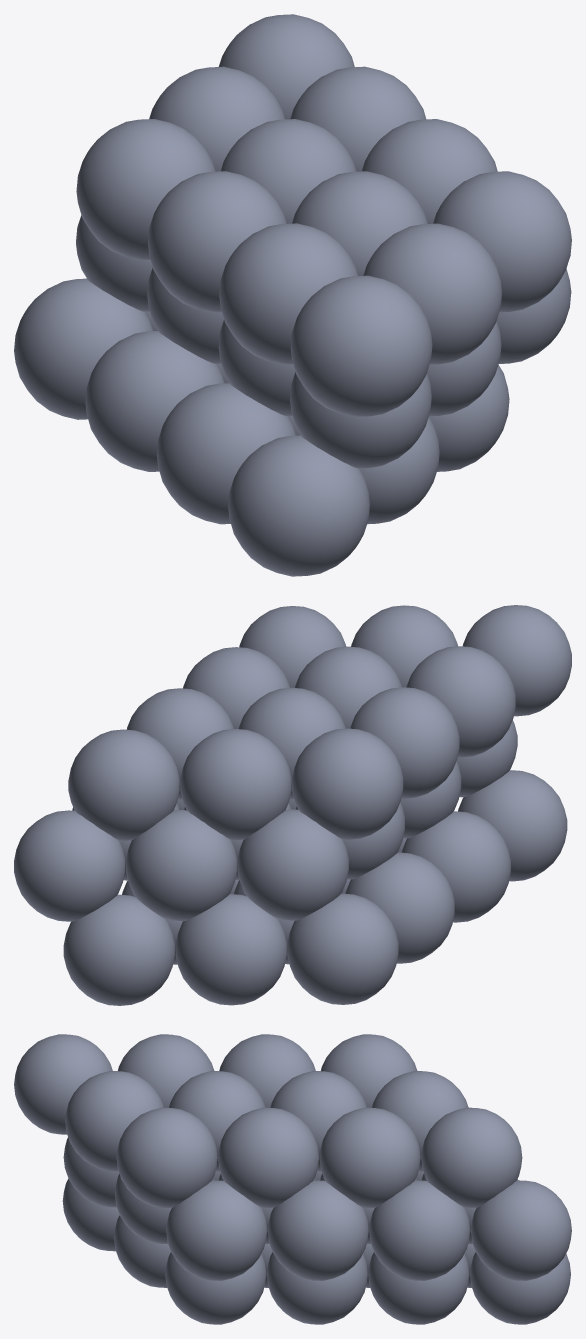
3 views of the same model, one above another, from view 1: azimuth 30°, elevation 25°; view 2: azimuth 150°, elevation 25°; view 3: azimuth 270°, elevation 25° (orthographic). The views are drawn at different scales.
Parts seen in each view (by area): view 1: GeoSphere561; view 2: GeoSphere561; view 3: GeoSphere561.
Part boxes in pixels (box(x1,y1,x2,y2)): GeoSphere561: box(14, 14, 571, 576); GeoSphere561: box(14, 605, 571, 1005); GeoSphere561: box(14, 1034, 571, 1324).
Size of the model in its own units: 129 by 94.92 by 221.
Materials: 1 (1 with a texture image).
